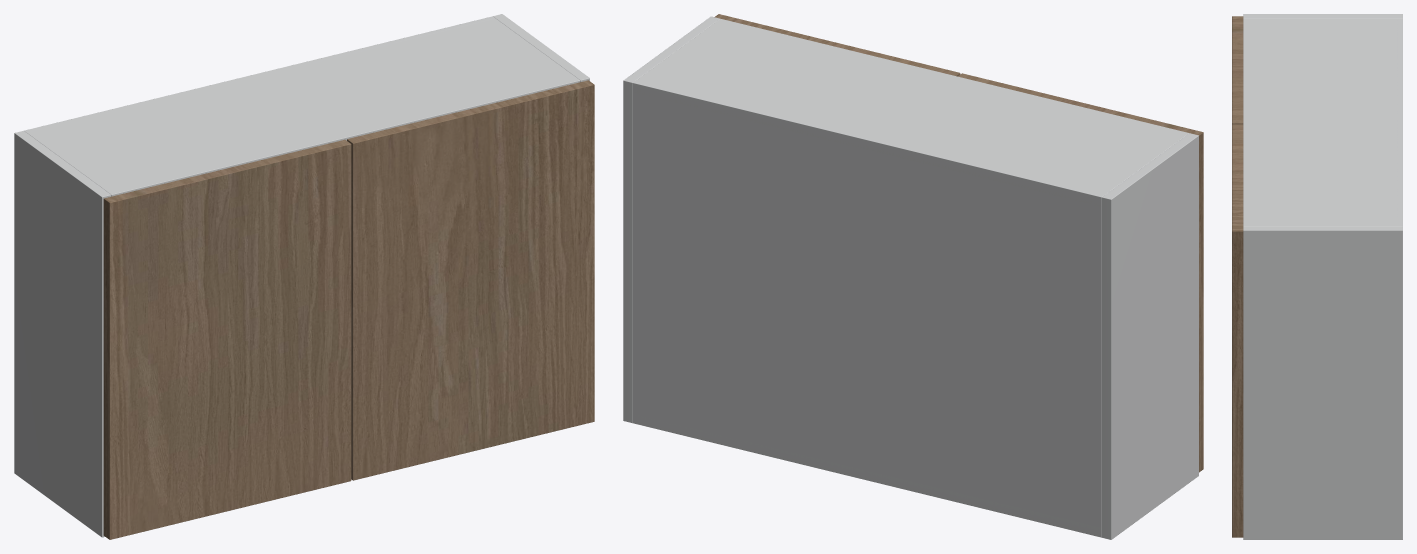
Rendered from oppein-pb-mnw-w3624.glb.
3 views of the same model, side by side, from view 1: azimuth 30°, elevation 25°; view 2: azimuth 150°, elevation 25°; view 3: azimuth 270°, elevation 25° (orthographic). The views are drawn at different scales.
Visible parts, largest first — view 1: Door, Door.001, Cabinet top, Cabinet side, Cabinet back, Cabinet side.001; view 2: Cabinet back, Cabinet top, Cabinet side, Cabinet side.001, Cabinet bottom, Door, Door.001; view 3: Cabinet side.001, Cabinet top, Door.001, Cabinet back, Door, Cabinet side.
Boxes of the visible parts, x1,y1,x2,y2 form: Door: (103, 139, 351, 539); Door.001: (347, 80, 594, 480); Cabinet top: (25, 16, 580, 196); Cabinet side: (14, 130, 111, 537); Cabinet back: (24, 16, 495, 132); Cabinet side.001: (493, 14, 589, 81); Cabinet back: (633, 80, 1104, 537); Cabinet top: (633, 19, 1189, 206); Cabinet side: (1102, 133, 1198, 539); Cabinet side.001: (623, 16, 719, 423); Cabinet bottom: (633, 415, 1101, 537); Door: (958, 73, 1203, 472); Door.001: (714, 14, 960, 76); Cabinet side.001: (1243, 226, 1402, 539); Cabinet top: (1243, 18, 1402, 226); Door.001: (1232, 124, 1243, 537); Cabinet back: (1396, 18, 1402, 226); Door: (1232, 16, 1243, 124); Cabinet side: (1243, 14, 1402, 18).
Bounding box in the file's own units: 0.9144 × 0.6096 × 0.3048.
Materials: 2 (1 with a texture image).
